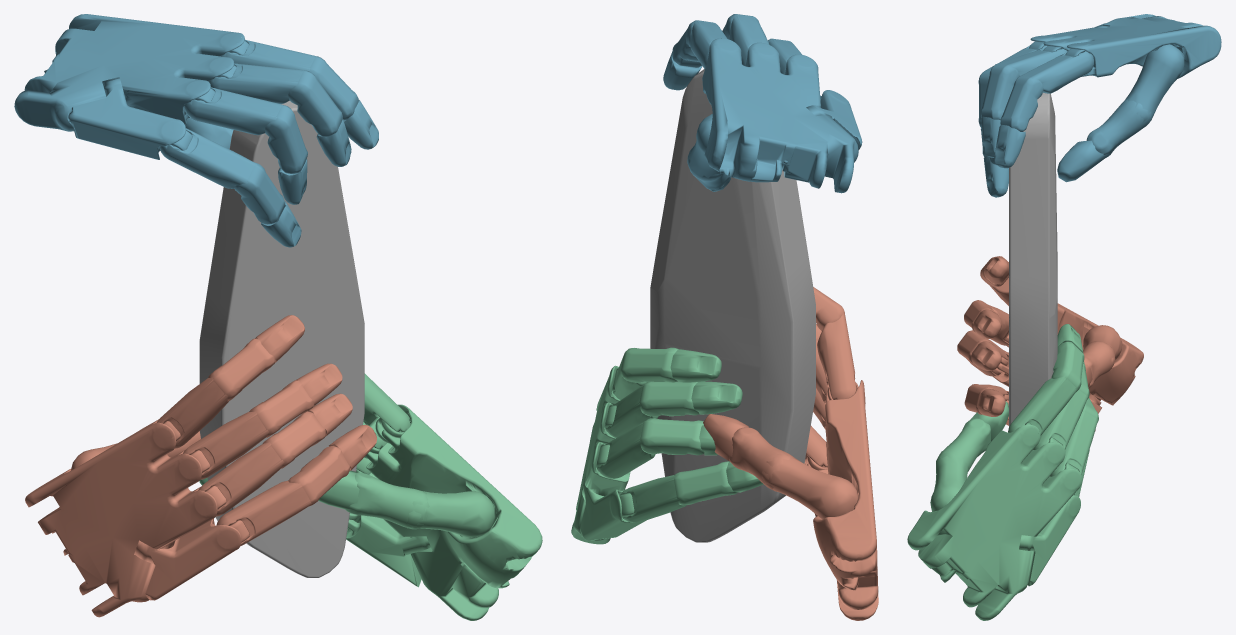
3 views of the same model, side by side, from view 1: azimuth 30°, elevation 25°; view 2: azimuth 150°, elevation 25°; view 3: azimuth 270°, elevation 25° (orthographic). The views are drawn at different scales.
Size of the model in its own units: 0.2515 by 0.3586 by 0.2048.
